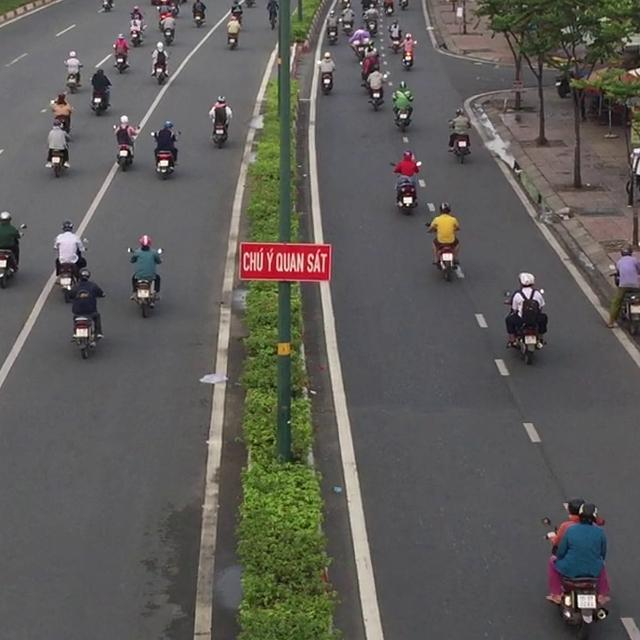Motorcycle: (541, 516, 610, 639), (502, 288, 547, 365), (66, 291, 105, 359), (127, 246, 163, 318), (607, 262, 640, 337), (424, 222, 464, 282), (53, 237, 88, 302), (0, 223, 27, 288), (389, 161, 421, 215), (150, 130, 180, 179), (112, 124, 139, 172), (45, 131, 72, 177), (364, 71, 390, 111), (447, 121, 471, 164), (209, 108, 231, 148), (391, 92, 413, 132), (90, 84, 112, 115), (150, 51, 169, 85), (63, 62, 82, 93), (317, 63, 335, 95), (112, 44, 130, 74), (129, 18, 146, 46), (400, 43, 416, 70), (226, 24, 240, 50), (192, 4, 206, 27)
